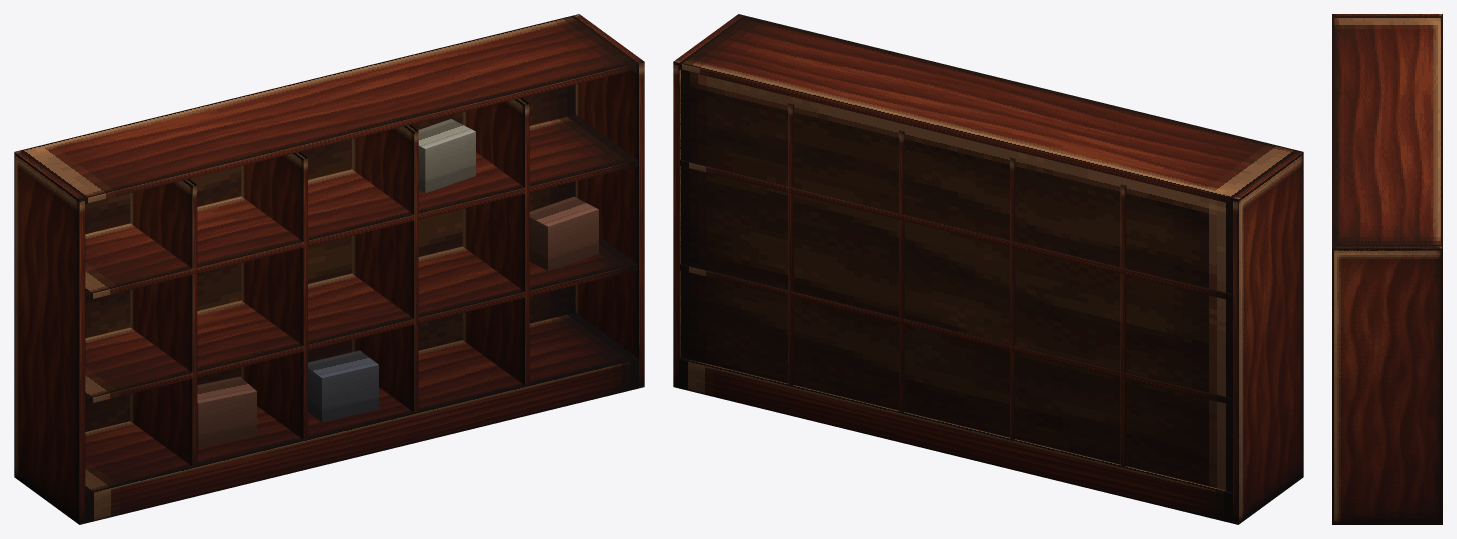
File: prop_lockerrow-1.glb
3 renders of one model, left to right at view 1: azimuth 30°, elevation 25°; view 2: azimuth 150°, elevation 25°; view 3: azimuth 270°, elevation 25°, orthographic. The views are drawn at different scales.
Parts seen in each view (by area): view 1: prop_lockerrow-1; view 2: prop_lockerrow-1; view 3: prop_lockerrow-1.
Part boxes in pixels (x1=…): prop_lockerrow-1: x1=14, y1=14, x2=644, y2=524; prop_lockerrow-1: x1=673, y1=14, x2=1303, y2=524; prop_lockerrow-1: x1=1332, y1=14, x2=1442, y2=524.
Bounding box in the file's own units: 2 × 1.1 × 0.4.
4 materials, 4 textured.
